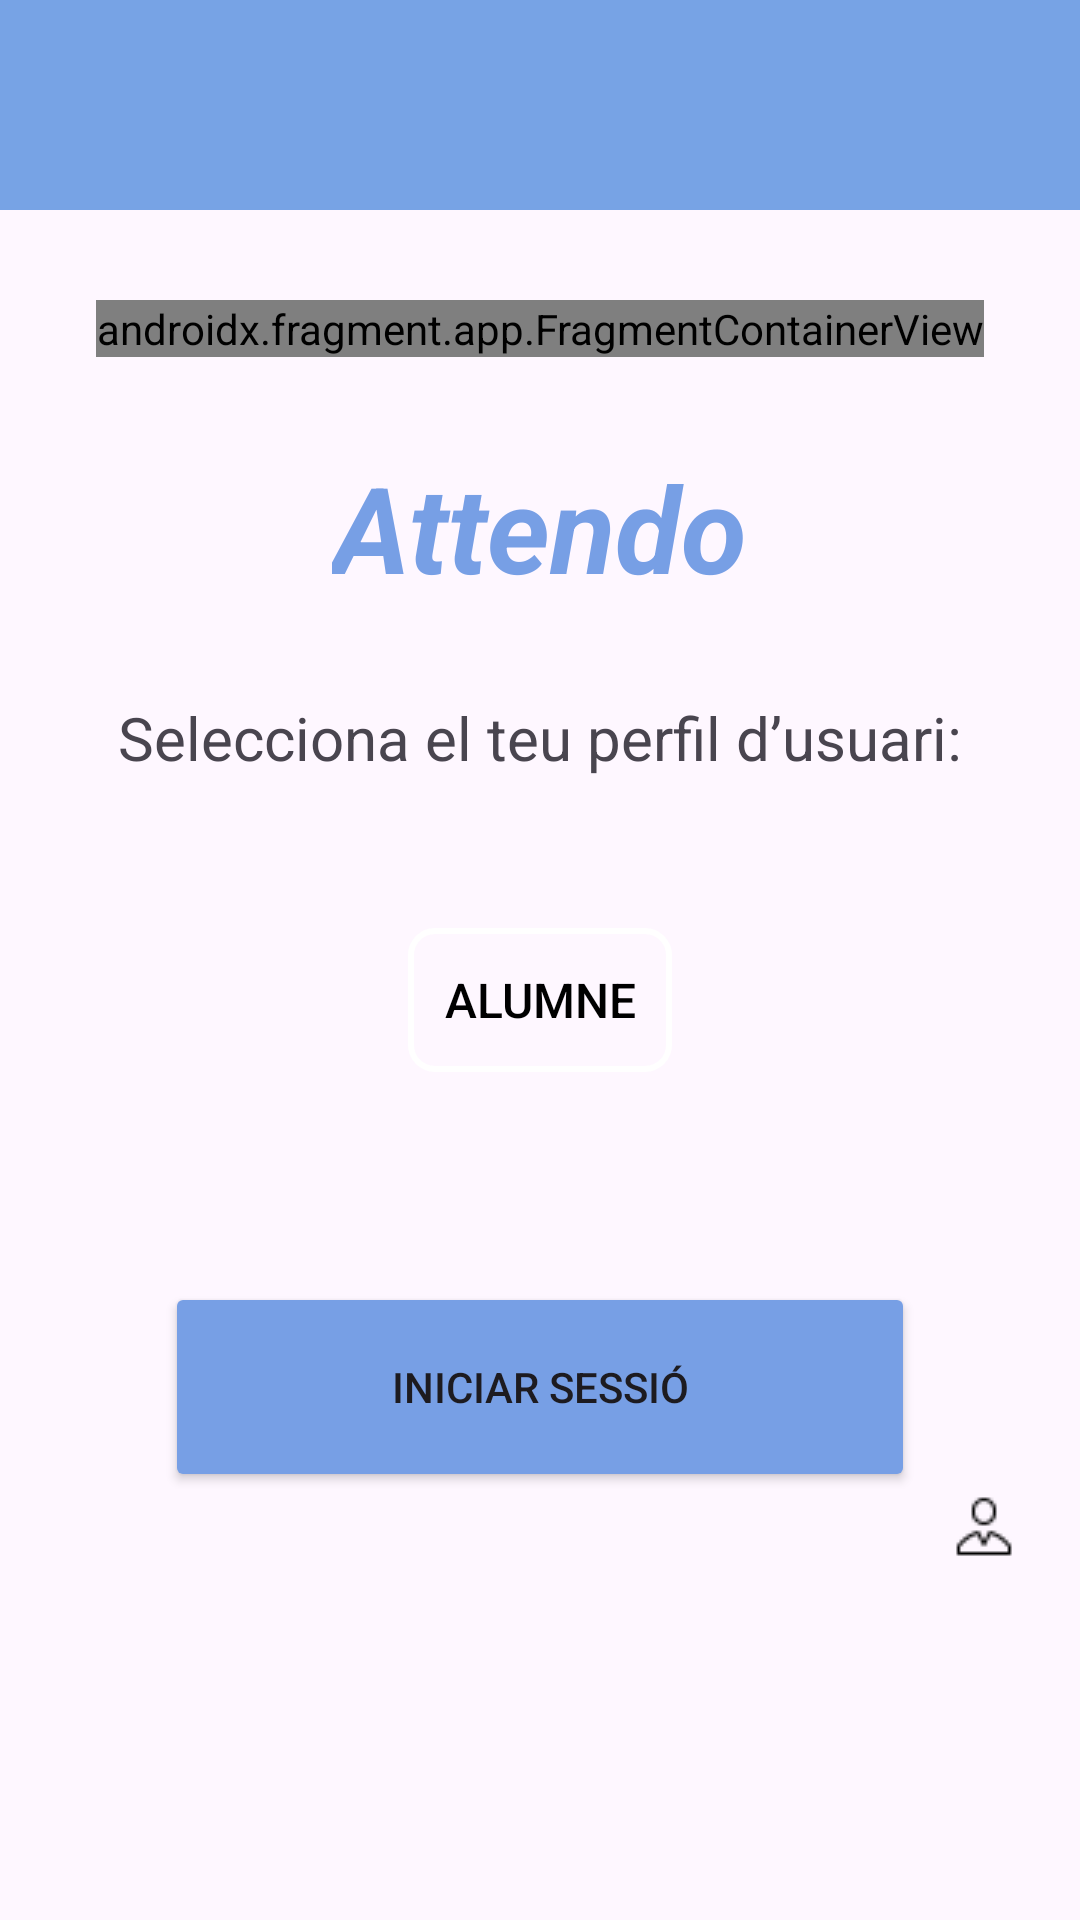

Icon click points for this 1080 x 1920 phone screenshot, format [x,y]:
proficon: [984,1526]
